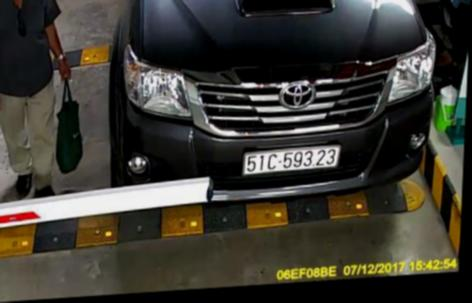License_Plate: (240, 140, 340, 178)
